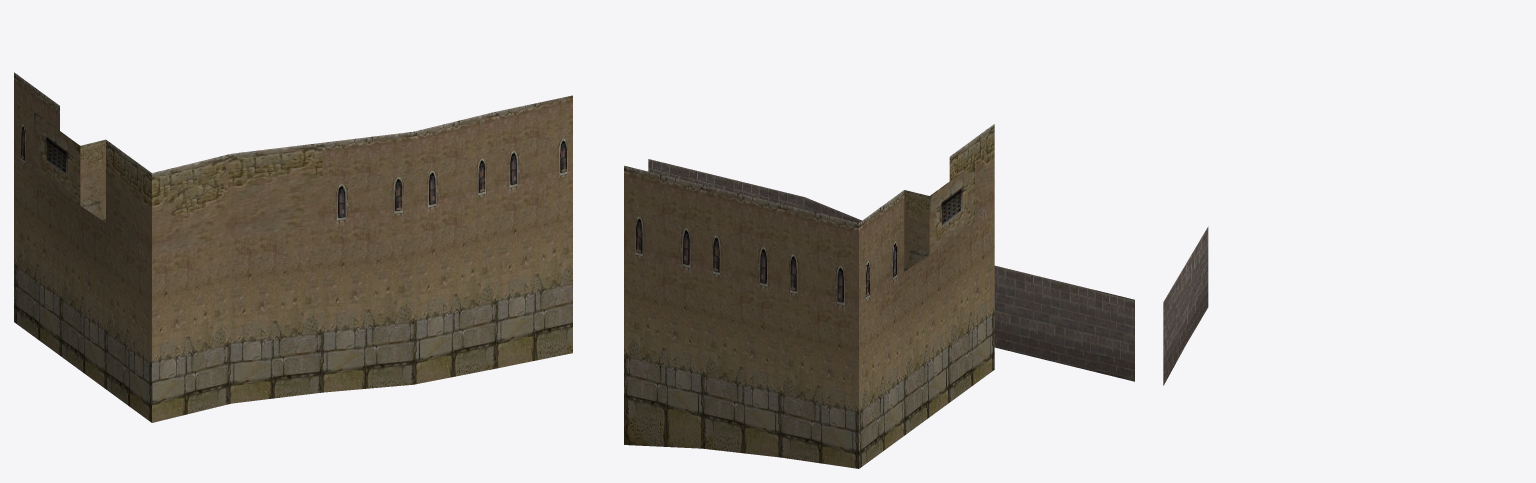
Rendered from M2Zone1_GateOut_A.glb.
3 views of the same model, side by side, from view 1: azimuth 30°, elevation 25°; view 2: azimuth 150°, elevation 25°; view 3: azimuth 270°, elevation 25° (orthographic). The views are drawn at different scales.
Visible parts, largest first — view 1: M2ZONE1_GATEOUT_A; view 2: M2ZONE1_GATEOUT_A; view 3: M2ZONE1_GATEOUT_A.
Part boxes in pixels (box(x1,y1,x2,y2)): M2ZONE1_GATEOUT_A: box(14, 72, 572, 422); M2ZONE1_GATEOUT_A: box(624, 124, 1134, 468); M2ZONE1_GATEOUT_A: box(1163, 226, 1208, 385).
Size of the model in its own units: 26.01 by 13.62 by 16.
4 materials, 4 textured.
